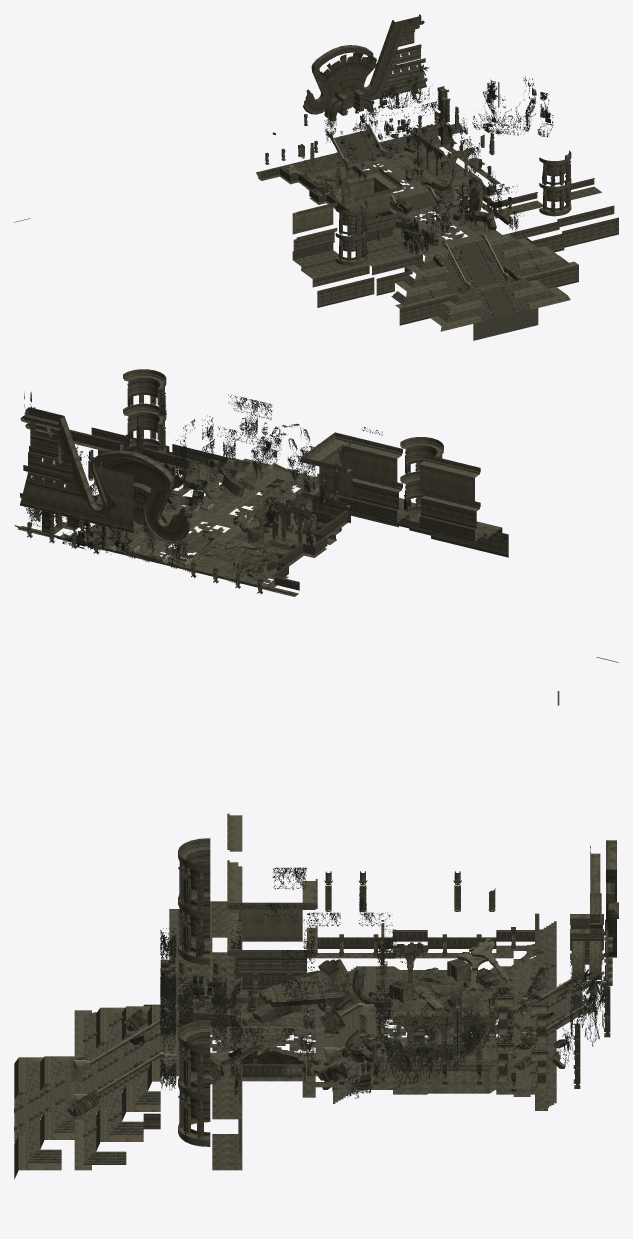
File: map8.fbx
The picture shows the model from 3 angles, top to bottom: view 1: azimuth 30°, elevation 25°; view 2: azimuth 150°, elevation 25°; view 3: azimuth 270°, elevation 25°; orthographic projection. The views are drawn at different scales.
Visible parts, largest first — view 1: 0001_polySurfaceShape344885, 0002_polySurfaceShape344885, 0000_yasi_74Shape, 0015_kaidan2Shape, 0010_kaidanShape, 0018_polySurfaceShape345096, 0011_kaidan_sideShape2, 0008_polySurfaceShape343910, 0009_polySurfaceShape343595, 0012_kabe_yuka1Shape, 0006_polySurfaceShape345091, 0016_polySurfaceShape3433676; view 2: 0001_polySurfaceShape344885, 0002_polySurfaceShape344885, 0000_yasi_74Shape, 0018_polySurfaceShape345096, 0009_polySurfaceShape343595, 0010_kaidanShape, 0019_kaidan1Shape, 0006_polySurfaceShape345091, 0017_polySurfaceShape343912, 0005_polySurfaceShape343764, 0008_polySurfaceShape343910, 0015_kaidan2Shape; view 3: 0001_polySurfaceShape344885, 0002_polySurfaceShape344885, 0000_yasi_74Shape, 0010_kaidanShape, 0015_kaidan2Shape, 0018_polySurfaceShape345096, 0011_kaidan_sideShape2, 0008_polySurfaceShape343910, 0009_polySurfaceShape343595, 0019_kaidan1Shape, 0006_polySurfaceShape345091, 0005_polySurfaceShape343764.
Part boxes in pixels (x1,y1,x2,y2): 0001_polySurfaceShape344885: (287,33,618,331); 0002_polySurfaceShape344885: (260,14,594,292); 0000_yasi_74Shape: (319,18,555,291); 0015_kaidan2Shape: (256,123,570,322); 0010_kaidanShape: (258,129,601,340); 0018_polySurfaceShape345096: (344,143,480,207); 0011_kaidan_sideShape2: (395,151,514,317); 0008_polySurfaceShape343910: (301,227,436,278); 0009_polySurfaceShape343595: (396,201,501,250); 0012_kabe_yuka1Shape: (334,130,505,288); 0006_polySurfaceShape345091: (413,211,464,241); 0016_polySurfaceShape3433676: (342,131,372,163); 0001_polySurfaceShape344885: (20,369,508,582); 0002_polySurfaceShape344885: (20,407,475,594); 0000_yasi_74Shape: (24,392,416,571); 0018_polySurfaceShape345096: (57,503,314,567); 0009_polySurfaceShape343595: (191,463,317,528); 0010_kaidanShape: (17,441,485,596); 0019_kaidan1Shape: (195,546,303,585); 0006_polySurfaceShape345091: (229,479,303,517); 0017_polySurfaceShape343912: (156,521,229,562); 0005_polySurfaceShape343764: (192,539,263,565); 0008_polySurfaceShape343910: (278,499,501,544); 0015_kaidan2Shape: (14,502,330,595); 0001_polySurfaceShape344885: (14,813,612,1179); 0002_polySurfaceShape344885: (67,840,618,1154); 0000_yasi_74Shape: (77,867,607,1111); 0010_kaidanShape: (14,901,581,1170); 0015_kaidan2Shape: (14,921,556,1164); 0018_polySurfaceShape345096: (358,966,530,1096); 0011_kaidan_sideShape2: (14,1011,496,1125); 0008_polySurfaceShape343910: (160,909,331,1018); 0009_polySurfaceShape343595: (160,1018,332,1076); 0019_kaidan1Shape: (399,959,530,1009); 0006_polySurfaceShape345091: (210,1034,315,1052); 0005_polySurfaceShape343764: (419,982,478,1024).
Size of what is drawn, in the model's own units: 242 by 84.33 by 141.
